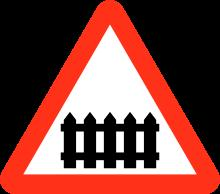Barrier Ahead: (13, 9, 207, 187)
